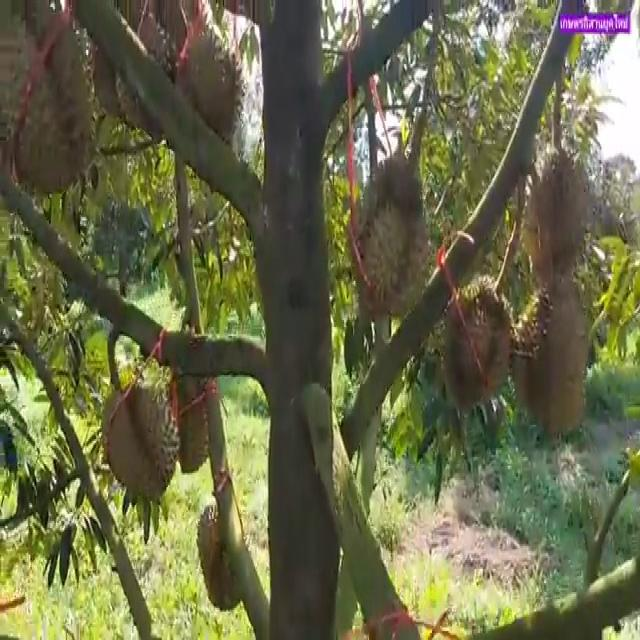durian: (2, 0, 101, 201), (342, 150, 434, 322), (508, 270, 593, 444), (440, 268, 523, 414), (518, 139, 592, 293), (98, 378, 183, 503), (162, 340, 220, 478), (194, 499, 257, 620)
